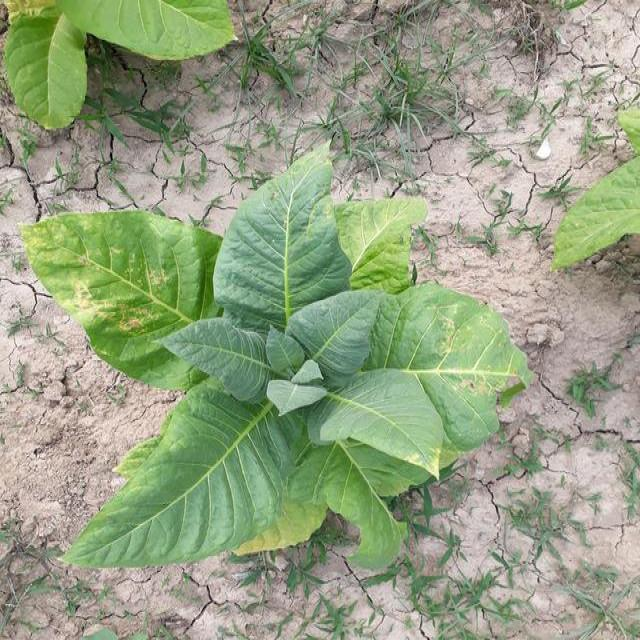crop: (27, 160, 526, 578), (3, 0, 234, 123), (563, 104, 640, 249)
